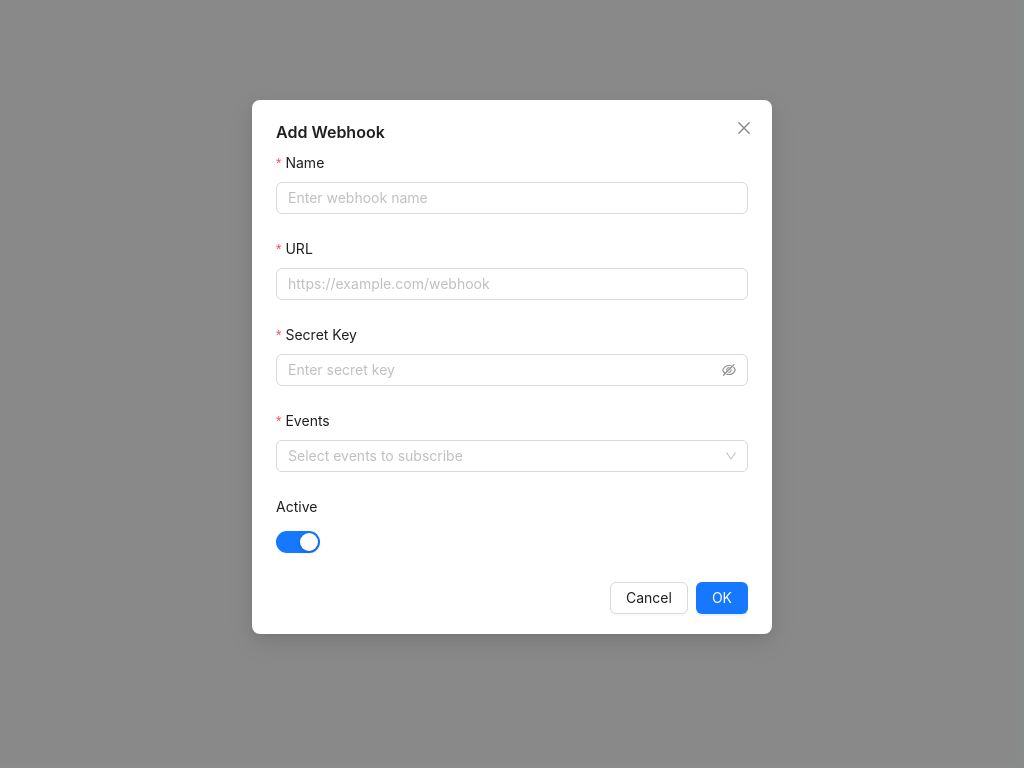
Test: WebhookForm › validates URL format
The image size is (1024, 768).
// Enter invalid URL
Type "invalid-url" into the field labelled "URL".
click(512, 284); type("invalid-url")  # box [276, 268, 748, 300]
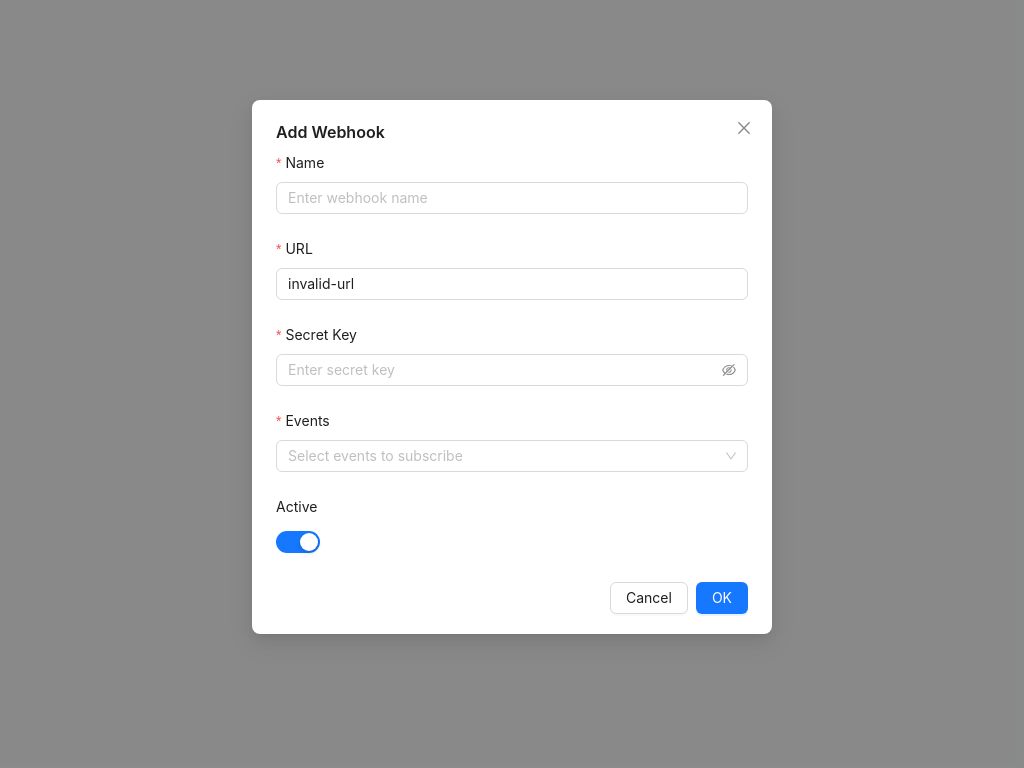
Click the button "OK".
click(722, 598)  # box [696, 582, 748, 614]
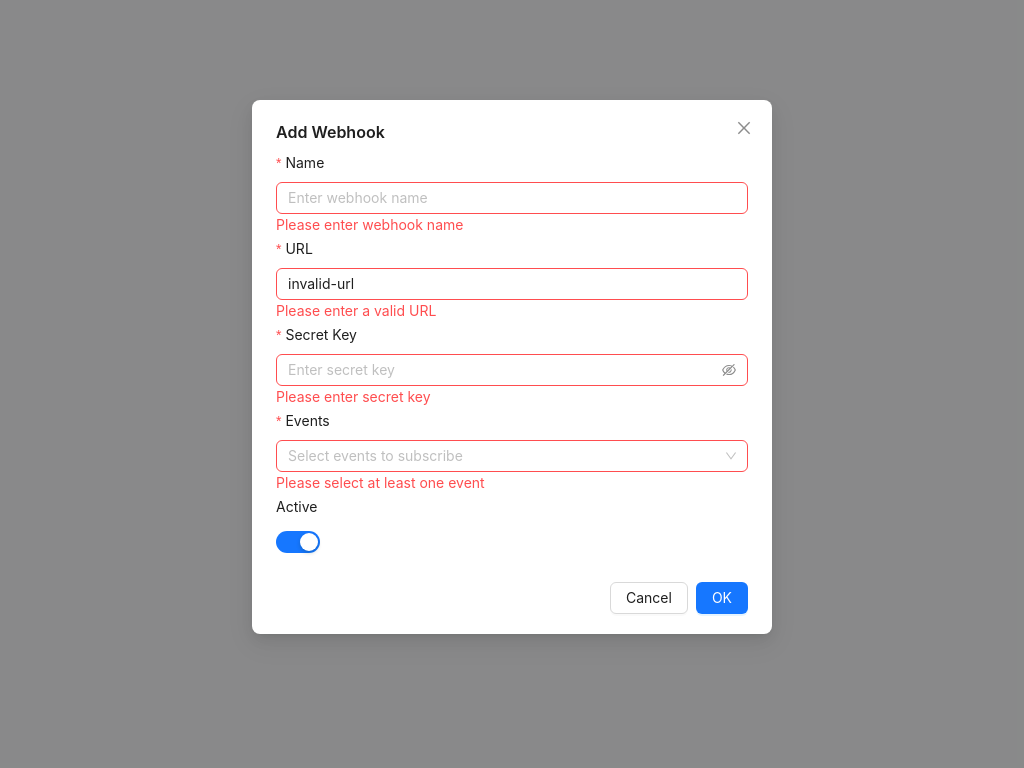
Check: the text "Please enter a valid URL" is shown, box [276, 302, 436, 319]
